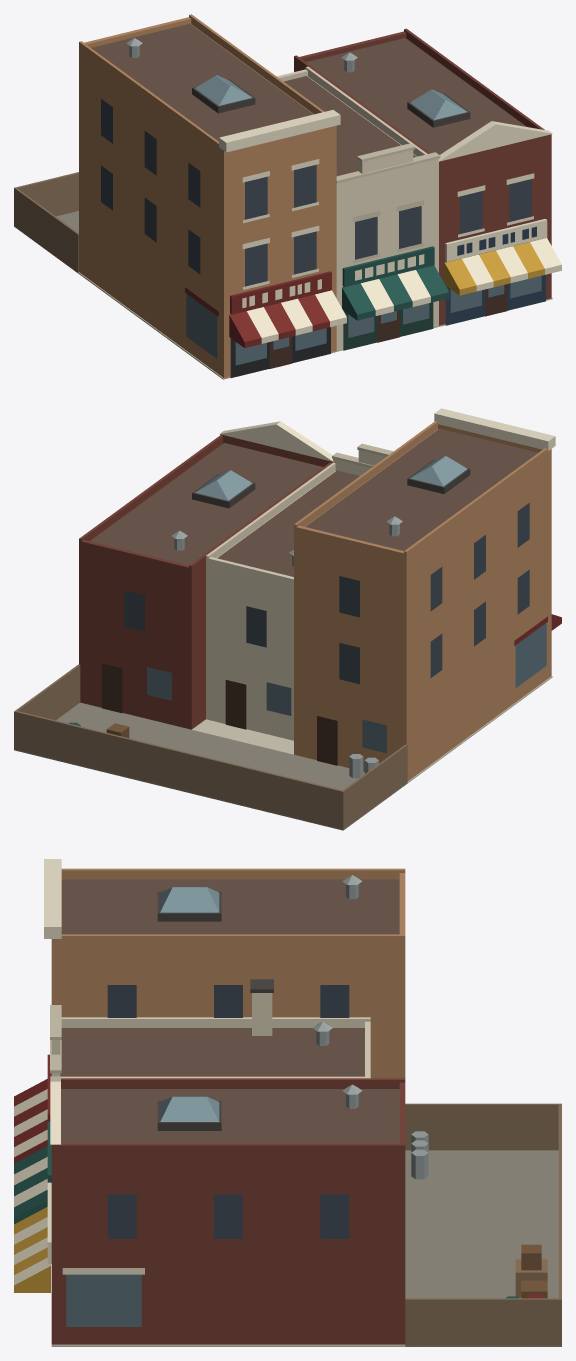
The model's file is highstreet_wb.glb.
3 views of the same model, one above another, from view 1: azimuth 30°, elevation 25°; view 2: azimuth 150°, elevation 25°; view 3: azimuth 270°, elevation 25° (orthographic). The views are drawn at different scales.
Visible parts, largest first — view 1: highstreet_wb; view 2: highstreet_wb; view 3: highstreet_wb.
Boxes of the visible parts, x1,y1,x2,y2 form: highstreet_wb: (14,14,561,379); highstreet_wb: (14,408,561,830); highstreet_wb: (14,859,561,1346).
Bounding box in the file's own units: 18 × 12.73 × 21.26.
